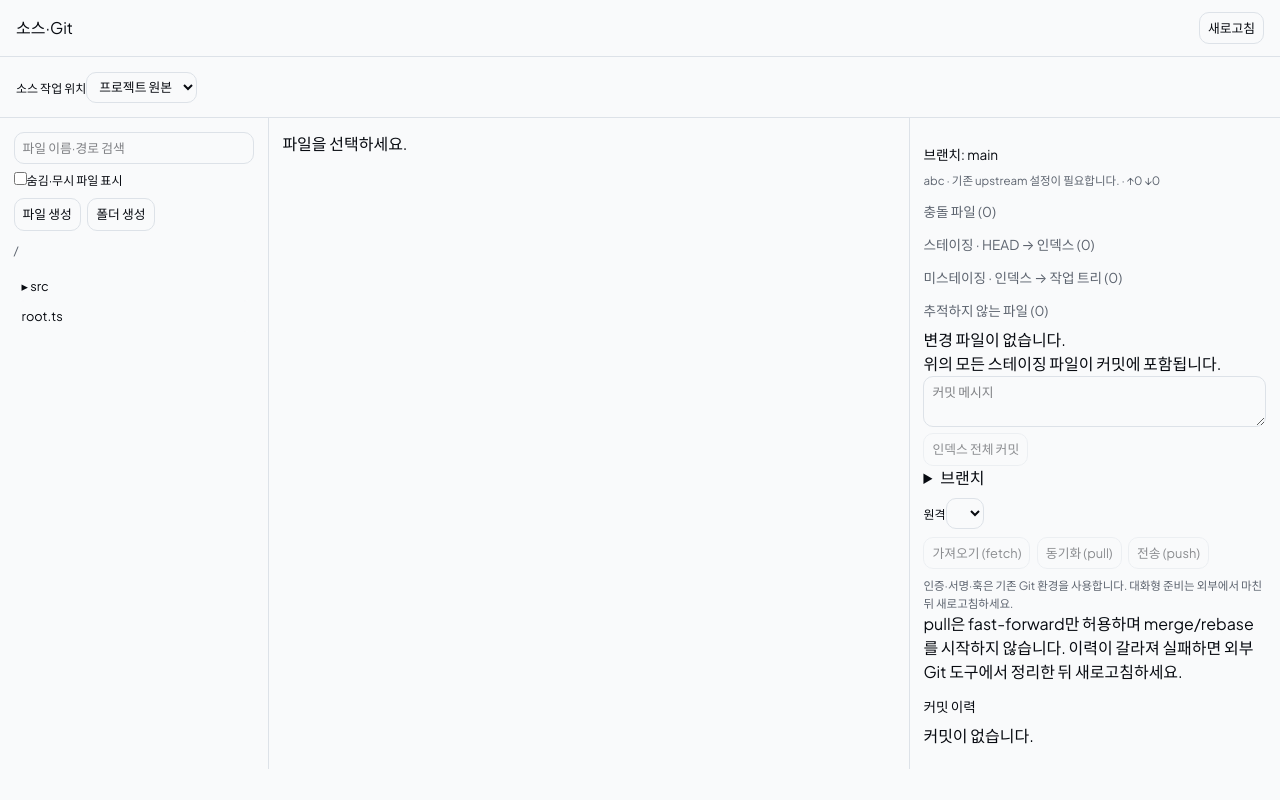
Test: lazily expands a folder while retaining its siblings in the file tree
This screenshot has width=1280, height=800.
Click the button "▸ src": coordinates (134, 286) [14,271,254,302]
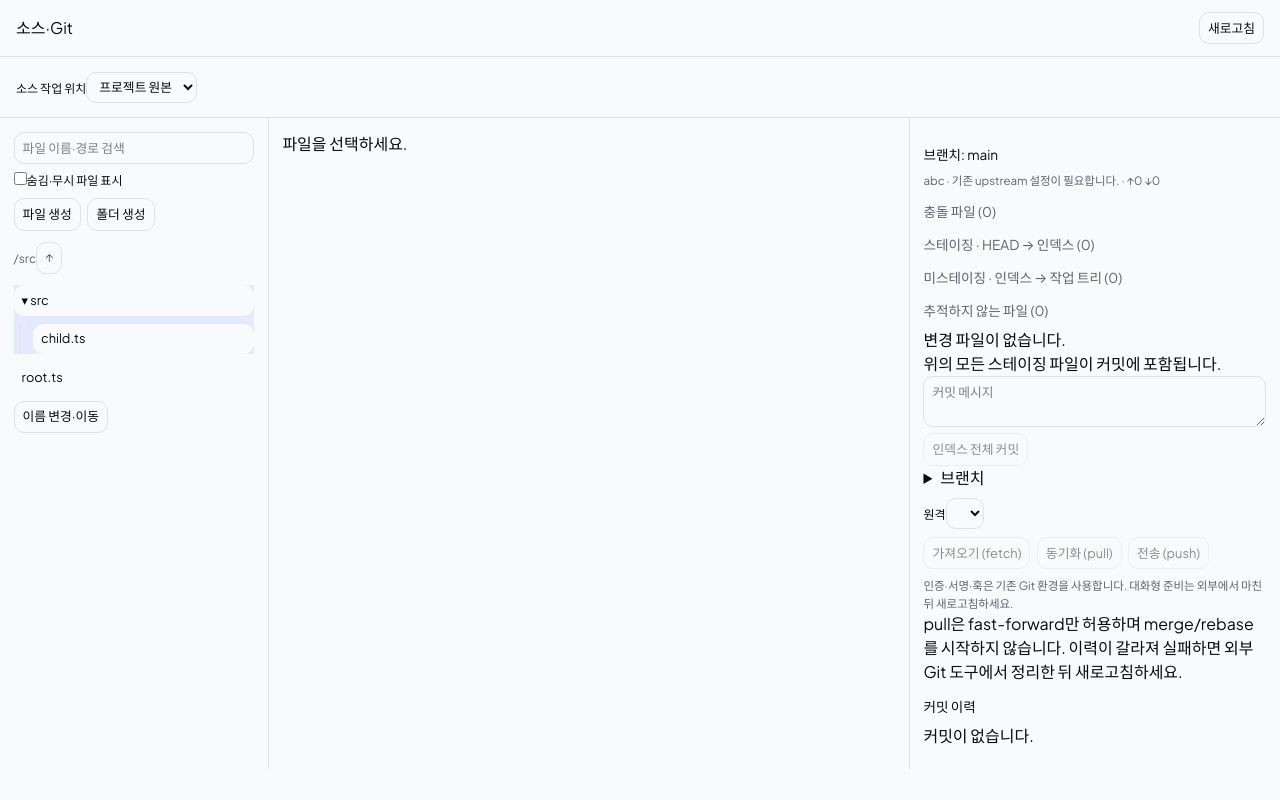
Check: the button "root.ts" is shown, box [14,362,254,393]
Check: the button "child.ts" is shown, box [33,324,254,354]
